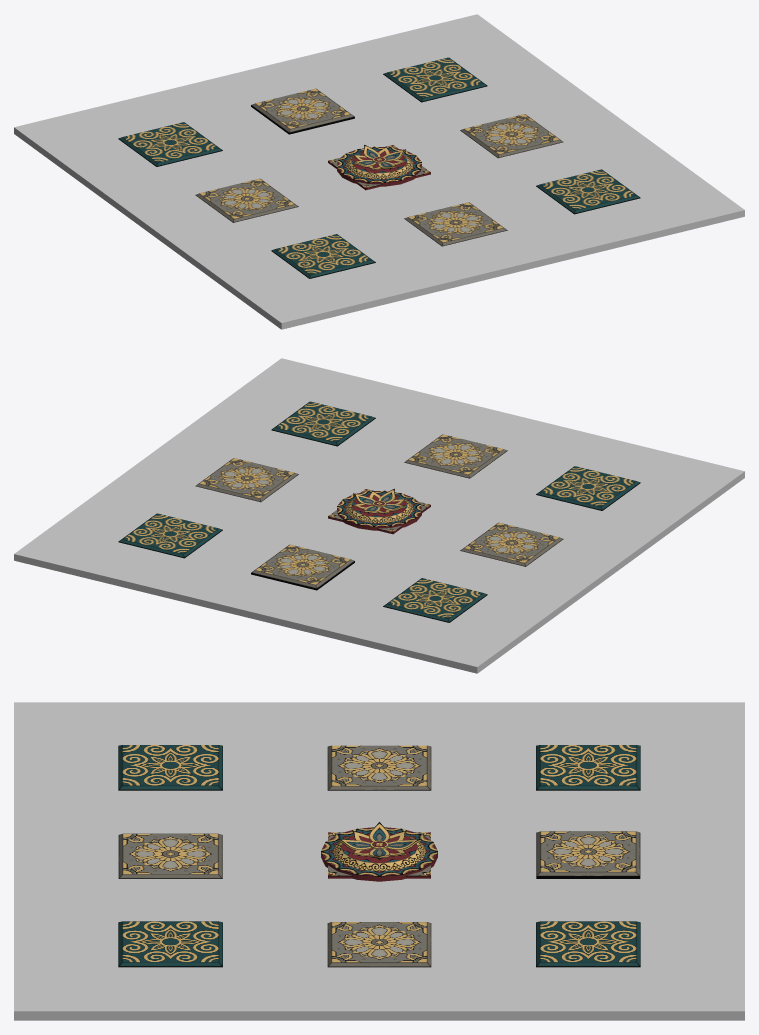
The model's file is Gq_01_dibiao_02.FBX.
3 renders of one model, top to bottom at view 1: azimuth 30°, elevation 25°; view 2: azimuth 150°, elevation 25°; view 3: azimuth 270°, elevation 25°, orthographic. The views are drawn at different scales.
Parts seen in each view (by area): view 1: Object050, Object066, chuansong, Object063, Object065, Object067, Object069, Object068, Object064, Object120, Object093, Object102 (+34 smaller); view 2: Object050, Object120, chuansong, Object117, Object119, Object121, Object123, Object122, Object118, Object066, Object093, Object084 (+34 smaller); view 3: Object050, Object065, Object074, Object083, Object092, Object101, Object110, Object119, chuansong, Object125, Object126, Object052 (+34 smaller).
Boxes of the visible parts, x1,y1,x2,y2 form: Object050: (195, 88, 563, 246); Object066: (243, 279, 347, 329); chuansong: (328, 144, 430, 190); Object063: (508, 214, 612, 264); Object065: (641, 182, 744, 232); Object067: (376, 246, 480, 297); Object069: (442, 230, 546, 280); Object068: (310, 263, 413, 313); Object064: (575, 198, 678, 248); Object120: (14, 111, 117, 161); Object093: (128, 195, 232, 245); Object102: (90, 167, 194, 217); Object050: (195, 434, 563, 590); Object120: (411, 623, 515, 673); chuansong: (328, 488, 430, 534); Object117: (146, 558, 250, 608); Object119: (14, 526, 117, 576); Object121: (278, 590, 382, 641); Object123: (212, 574, 316, 624); Object122: (345, 607, 448, 657); Object118: (80, 542, 183, 592); Object066: (641, 455, 744, 505); Object093: (526, 539, 630, 589); Object084: (564, 511, 668, 561); Object050: (118, 745, 640, 967); Object065: (14, 967, 118, 1020); Object074: (118, 967, 222, 1020); Object083: (223, 967, 327, 1020); Object092: (327, 967, 431, 1020); Object101: (431, 967, 535, 1020); Object110: (536, 967, 640, 1020); Object119: (640, 967, 744, 1020); chuansong: (321, 822, 437, 881); Object125: (536, 921, 640, 967); Object126: (118, 921, 222, 967); Object052: (536, 745, 640, 790).
Size of the model in its own units: 7 by 0.2818 by 7.
